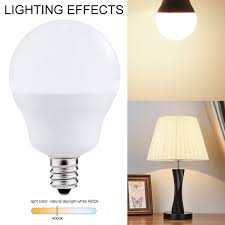bulb: (5, 15, 123, 152), (150, 1, 204, 48)
